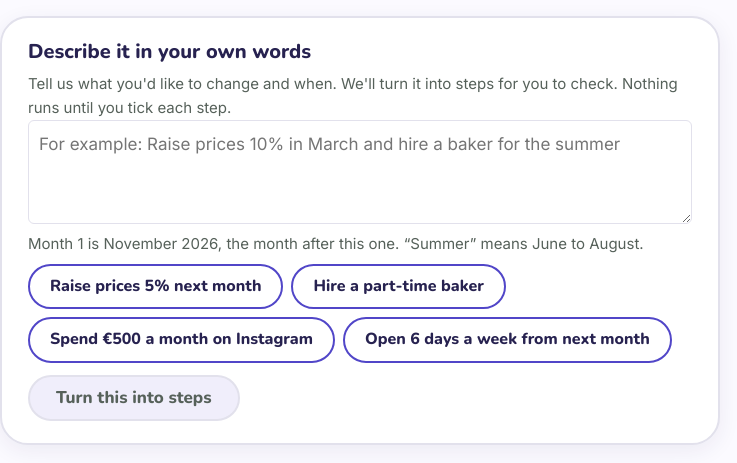
Scenario: DescribeBox › offers example chips in the business's own words and currency, and a chip fills the box
Click the button "Hire a part-time baker": [399, 287] box x1=292 y1=264 x2=506 y2=309
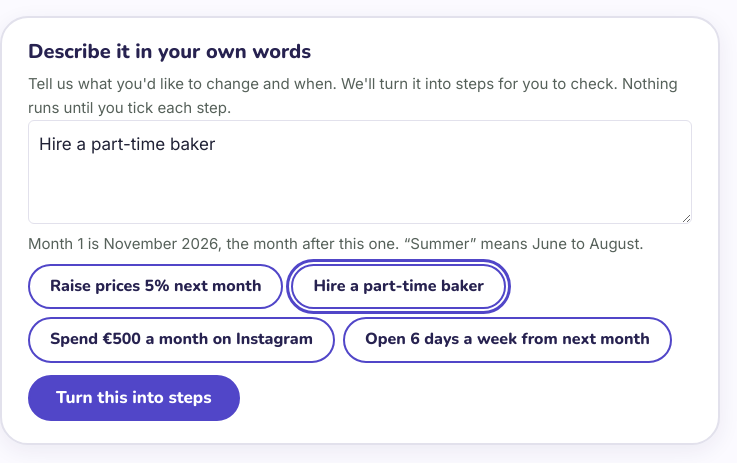
Check: the text box named "What would you like to change?" holds "Hire a part-time baker", box x1=28 y1=120 x2=692 y2=224
